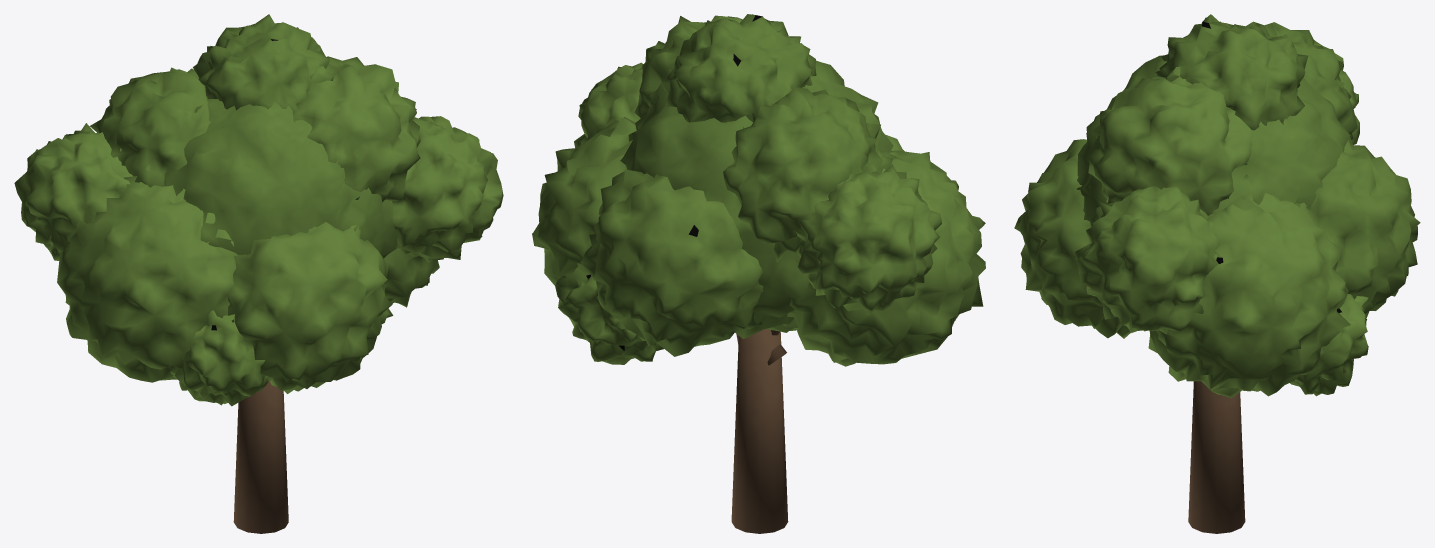
Rendered from oak.glb.
3 renders of one model, left to right at view 1: azimuth 30°, elevation 25°; view 2: azimuth 150°, elevation 25°; view 3: azimuth 270°, elevation 25°, orthographic. The views are drawn at different scales.
Parts seen in each view (by area): view 1: oak; view 2: oak; view 3: oak.
Part boxes in pixels (x1,y1,x2,y2): oak: (14, 14, 503, 533); oak: (532, 14, 985, 533); oak: (1014, 14, 1420, 533).
Bounding box in the file's own units: 7.11 × 8.23 × 5.99.
Materials: 1 (1 with a texture image).
